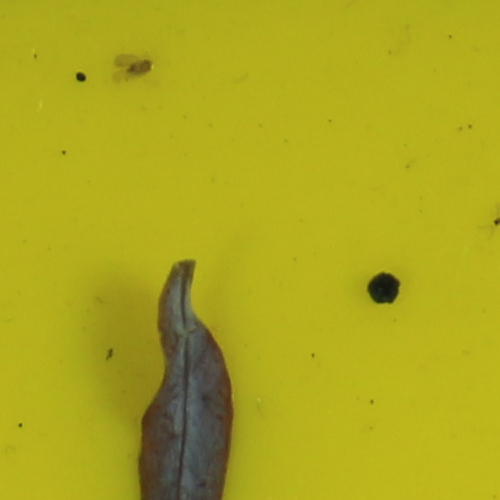Platyobria: (125, 56, 154, 75)
